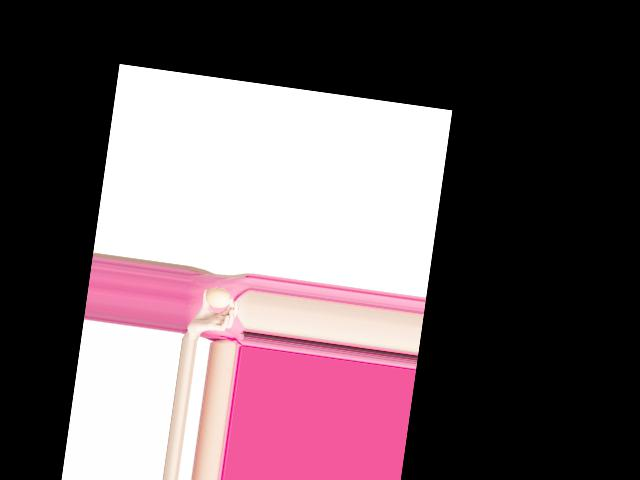egg: (204, 286, 232, 309)
